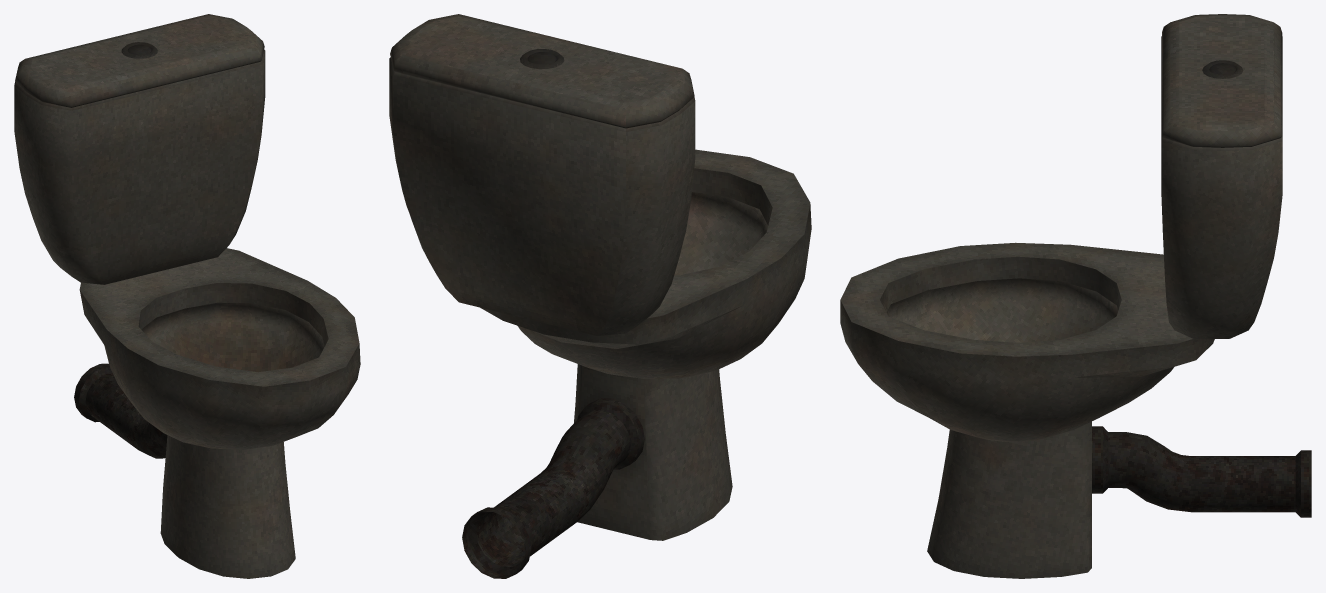
Rendered from toilet_mp_1.glb.
3 renders of one model, left to right at view 1: azimuth 30°, elevation 25°; view 2: azimuth 150°, elevation 25°; view 3: azimuth 270°, elevation 25°, orthographic. The views are drawn at different scales.
Parts seen in each view (by area): view 1: toilet_mp_1; view 2: toilet_mp_1; view 3: toilet_mp_1.
Part boxes in pixels (x1,y1,x2,y2): toilet_mp_1: (14,14,360,578); toilet_mp_1: (389,14,811,578); toilet_mp_1: (840,14,1311,578).
Size of the model in its own units: 0.5523 by 0.9999 by 0.8822.
1 material, 1 textured.
